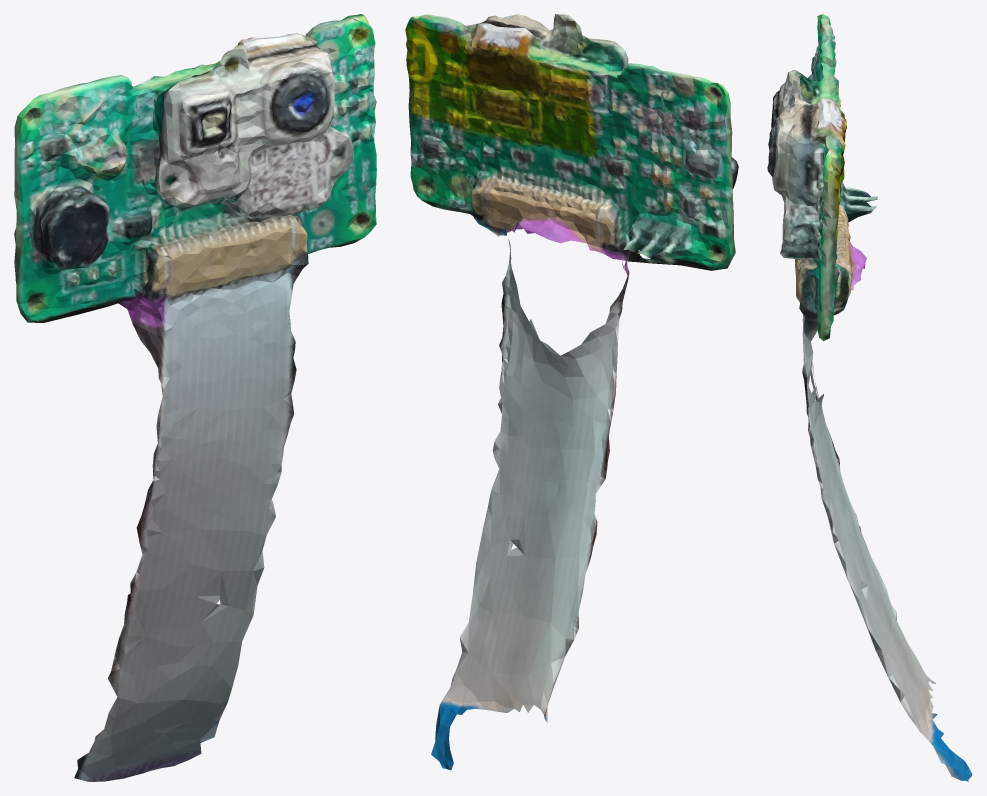
The model's file is mtt-on-interposer.glb.
3 views of the same model, side by side, from view 1: azimuth 30°, elevation 25°; view 2: azimuth 150°, elevation 25°; view 3: azimuth 270°, elevation 25° (orthographic). The views are drawn at different scales.
Visible parts, largest first — view 1: Mesh_0.001; view 2: Mesh_0.001; view 3: Mesh_0.001.
Part boxes in pixels (left/top/right/bottom): Mesh_0.001: left=14, top=14, right=376, bottom=781; Mesh_0.001: left=405, top=14, right=738, bottom=770; Mesh_0.001: left=767, top=14, right=972, bottom=781.
Bounding box in the file's own units: 0.1861 × 0.39 × 0.1053.
Materials: 1 (1 with a texture image).
